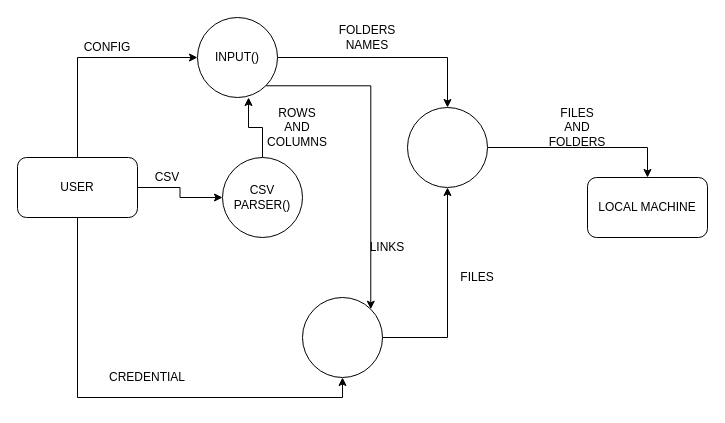
Some shapes in this 725 by 423 pixel diagram are drawn without their labels. Each missing label, with the centre of its shape:
"GOOGLE API" belongs at [342,337].
"OS HANDLER()" belongs at [447,147].
